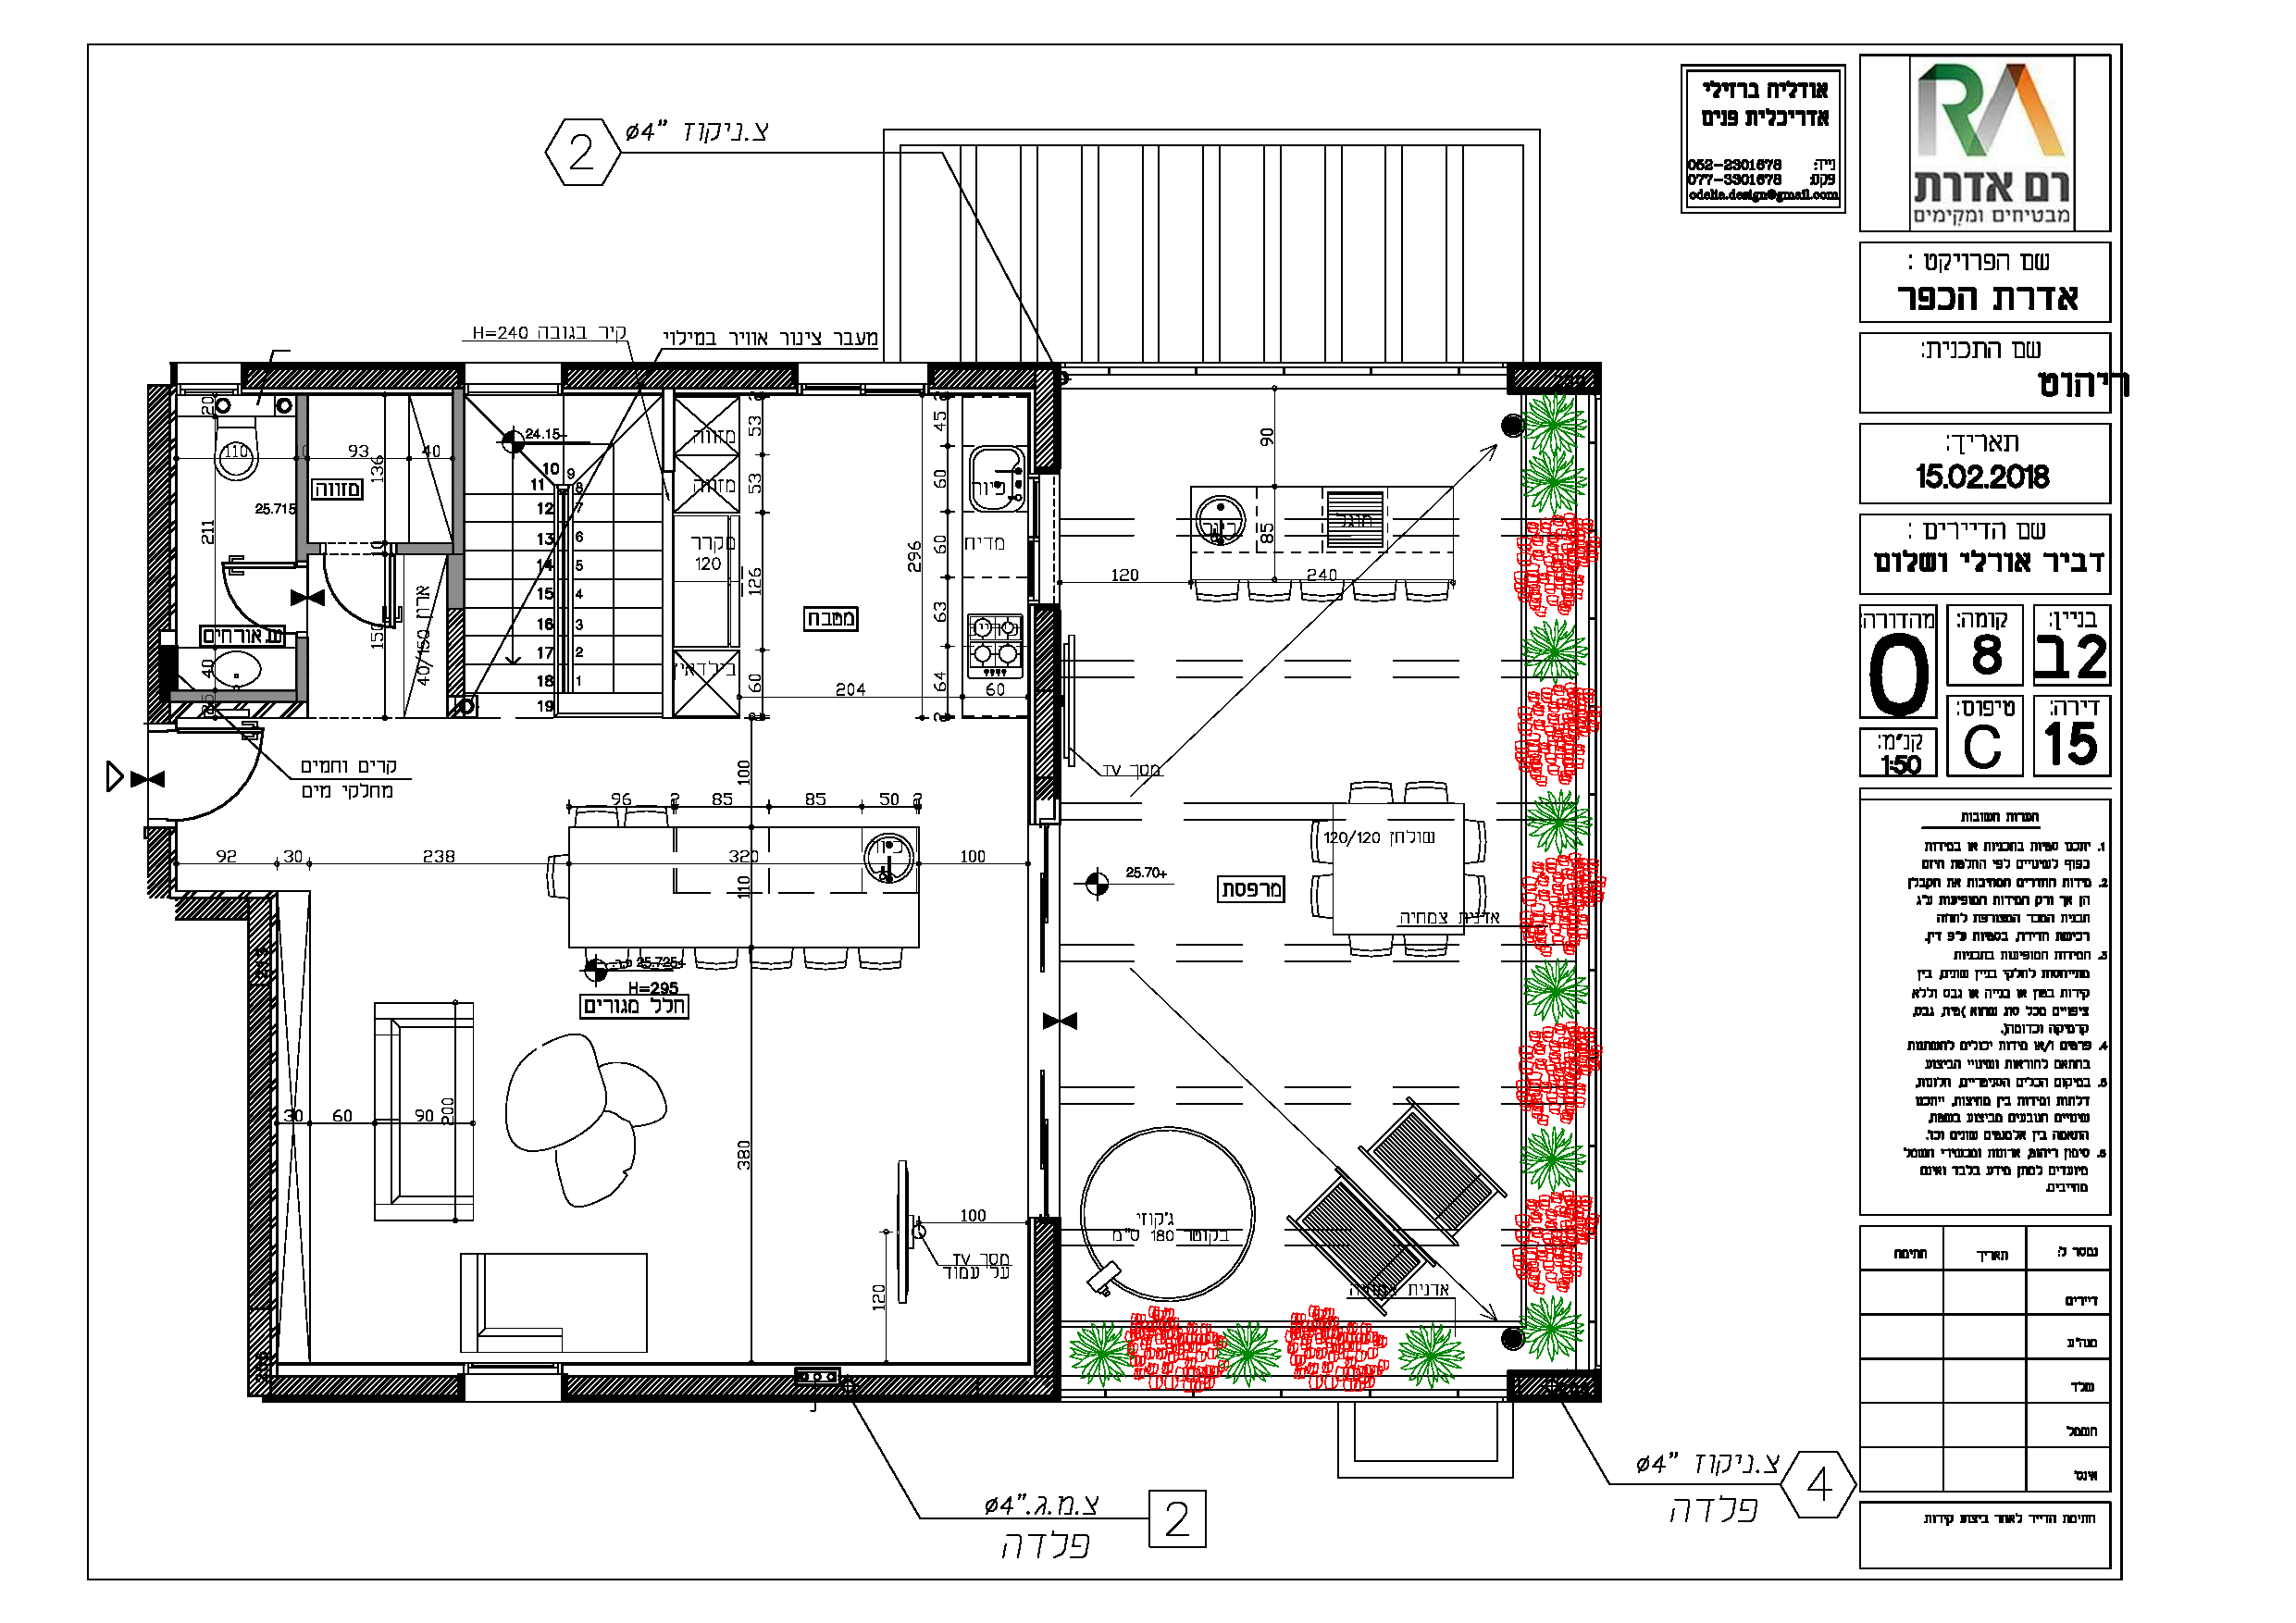door: (186, 724, 274, 822), (320, 557, 390, 634), (214, 555, 288, 611)
wall: (249, 901, 271, 1377), (149, 388, 169, 618), (864, 1375, 1051, 1398), (241, 364, 411, 388), (567, 369, 764, 386), (578, 1377, 783, 1393), (276, 1377, 453, 1395), (1038, 608, 1056, 783), (1036, 1223, 1054, 1384), (297, 395, 309, 555), (938, 369, 1029, 385)
window: (464, 1356, 562, 1419), (798, 358, 929, 402), (1024, 474, 1068, 604), (464, 358, 566, 402)
